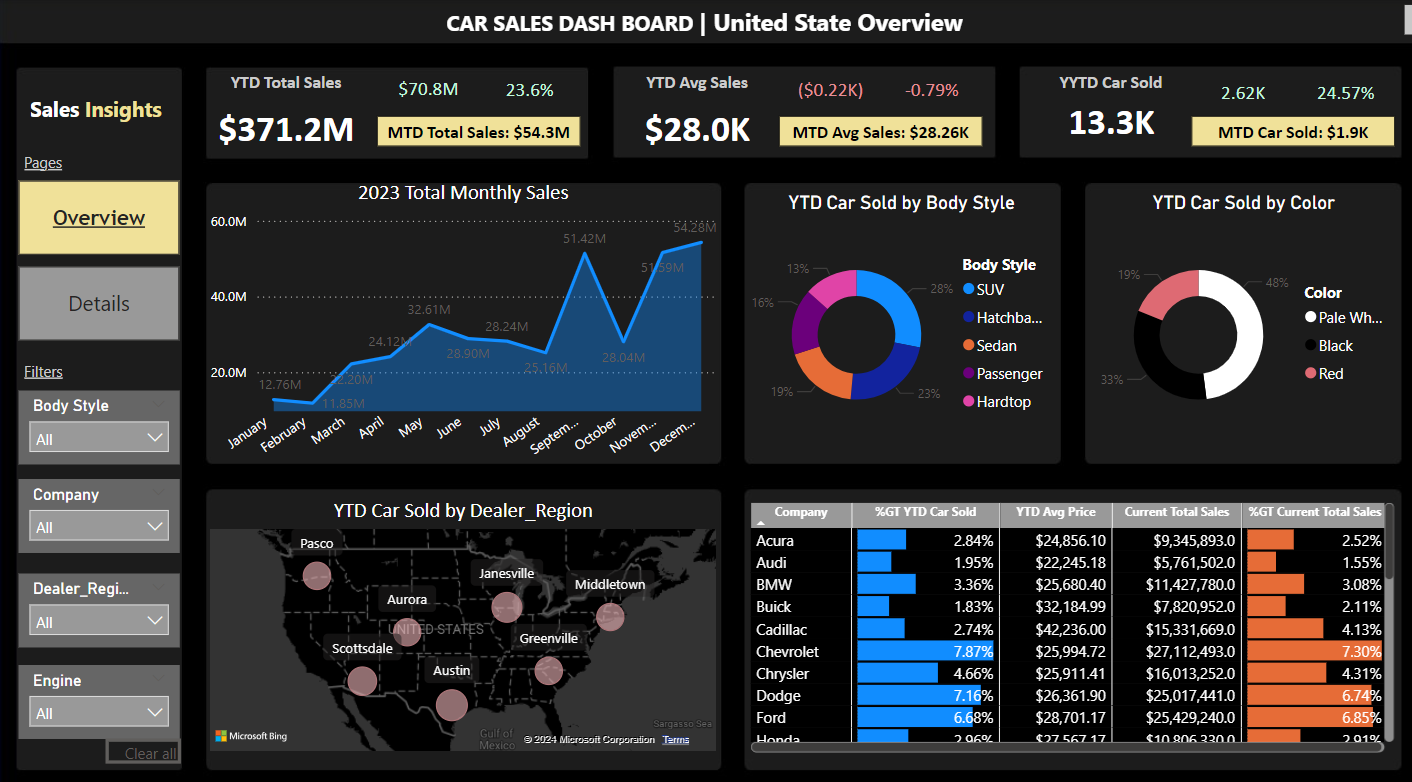

The page's visual inventory and layout, read from the dashboard file:
{"tool":"powerbi","page":{"name":"Overview ","canvas":[1280,720],"ordinal":0},"visuals":[{"type":"card","title":"YTD Total Sales","fields":{"Values":["car_data.YTD Total Sales"]},"box":[184.7,65.1,146.9,80.3],"z":0},{"type":"card","fields":{"Values":["car_data.Sales Difference"]},"box":[340.7,63.6,92.4,36.3],"z":1000},{"type":"card","fields":{"Values":["car_data.YoY Sales Growth"]},"box":[433.1,65.1,90.9,34.8],"z":2000},{"type":"card","fields":{"Values":["car_data.MTD KPI"]},"box":[340.7,106,183.2,27.3],"z":3000},{"type":"card","title":"YTD Avg Sales","fields":{"Values":["car_data.YTD Avg Price"]},"box":[555.7,65.1,146.9,80.3],"z":4000},{"type":"card","fields":{"Values":["car_data.Avg sale Difference"]},"box":[702.6,65.1,92.4,34.8],"z":5000},{"type":"card","fields":{"Values":["car_data.AVG MTD KPI"]},"box":[702.6,106,183.2,27.3],"z":6000},{"type":"card","fields":{"Values":["car_data.Avg YOY Price Growth"]},"box":[795,65.1,90.9,34.8],"z":7000},{"type":"card","title":"YYTD Car Sold","fields":{"Values":["car_data.YTD Car Sold"]},"box":[928.2,65.1,146.9,68.1],"z":8000},{"type":"card","fields":{"Values":["car_data.car sold diff"]},"box":[1075.1,65.1,92.4,40.9],"z":9000},{"type":"card","fields":{"Values":["car_data.cs growth"]},"box":[1167.5,65.1,90.9,40.9],"z":10000},{"type":"card","fields":{"Values":["car_data.MTD Car sold KPI"]},"box":[1075.1,106,183.2,27.3],"z":11000},{"type":"areaChart","title":"2023 Total Monthly Sales","fields":{"Category":["Calendar Table.Date.Variation.Date Hierarchy.Month"],"Y":["Sum(car_data.Price ($))"]},"box":[184.7,162,466.4,262],"z":12000},{"type":"donutChart","fields":{"Category":["car_data.Body Style"],"Y":["car_data.YTD Car Sold"]},"box":[672.3,172.6,283.2,239.2],"z":13000},{"type":"donutChart","fields":{"Y":["car_data.YTD Car Sold"],"Category":["car_data.Color"]},"box":[979.7,172.6,283.2,239.2],"z":14000},{"type":"map","fields":{"Category":["car_data.Dealer_Region"],"Size":["car_data.YTD Car Sold"]},"box":[184.7,448.2,466.4,234.7],"z":15000},{"type":"tableEx","fields":{"Values":["car_data.Company","car_data.YTD Car Sold","car_data.YTD Avg Price","car_data.Current Total Sales","Divide(car_data.Current Total Sales, ScopedEval(car_data.Current Total Sales, []))"]},"box":[672.3,448.2,590.5,234.7],"z":16000},{"type":"textbox","box":[0,0,1279.5,37.9],"z":17000},{"type":"slicer","fields":{"Values":["car_data.Body Style"]},"box":[18.2,352.3,145.4,66.6],"z":18000},{"type":"slicer","fields":{"Values":["car_data.Company"]},"box":[18.2,432.6,145.4,66.6],"z":19000},{"type":"slicer","fields":{"Values":["car_data.Dealer_Region"]},"box":[18.2,517.4,145.4,66.6],"z":20000},{"type":"slicer","fields":{"Values":["car_data.Engine"]},"box":[18.2,600.7,145.4,66.6],"z":21000},{"type":"textbox","box":[22.7,81.8,140.8,37.9],"z":22000},{"type":"textbox","box":[18.2,321,136.3,31.8],"z":23000},{"type":"actionButton","box":[95.4,666.8,68.1,22.7],"z":24000},{"type":"pageNavigator","box":[17.6,163.2,145.4,145.4],"z":25000},{"type":"textbox","box":[17.6,132.5,136.5,31.1],"z":25001}]}

Visuals, with their boxes on the page's 1280x720 design canvas (x1, y1, x2, y2). These are canvas units, not pixel positions in the 1412x782 screenshot, which may show the page scaled, cropped or inside an application window:
"YTD Total Sales" card: region(185, 65, 332, 145)
card - car_data.Sales Difference: region(341, 64, 433, 100)
card - car_data.YoY Sales Growth: region(433, 65, 524, 100)
card - car_data.MTD KPI: region(341, 106, 524, 133)
"YTD Avg Sales" card: region(556, 65, 703, 145)
card - car_data.Avg sale Difference: region(703, 65, 795, 100)
card - car_data.AVG MTD KPI: region(703, 106, 886, 133)
card - car_data.Avg YOY Price Growth: region(795, 65, 886, 100)
"YYTD Car Sold" card: region(928, 65, 1075, 133)
card - car_data.car sold diff: region(1075, 65, 1168, 106)
card - car_data.cs growth: region(1168, 65, 1258, 106)
card - car_data.MTD Car sold KPI: region(1075, 106, 1258, 133)
"2023 Total Monthly Sales" areaChart: region(185, 162, 651, 424)
donutChart - car_data.Body Style x car_data.YTD Car Sold: region(672, 173, 956, 412)
donutChart - car_data.YTD Car Sold x car_data.Color: region(980, 173, 1263, 412)
map - car_data.Dealer_Region x car_data.YTD Car Sold: region(185, 448, 651, 683)
tableEx - car_data.Company x car_data.YTD Car Sold: region(672, 448, 1263, 683)
textbox: region(0, 0, 1280, 38)
slicer - car_data.Body Style: region(18, 352, 164, 419)
slicer - car_data.Company: region(18, 433, 164, 499)
slicer - car_data.Dealer_Region: region(18, 517, 164, 584)
slicer - car_data.Engine: region(18, 601, 164, 667)
textbox: region(23, 82, 164, 120)
textbox: region(18, 321, 154, 353)
actionButton: region(95, 667, 164, 690)
pageNavigator: region(18, 163, 163, 309)
textbox: region(18, 132, 154, 164)
